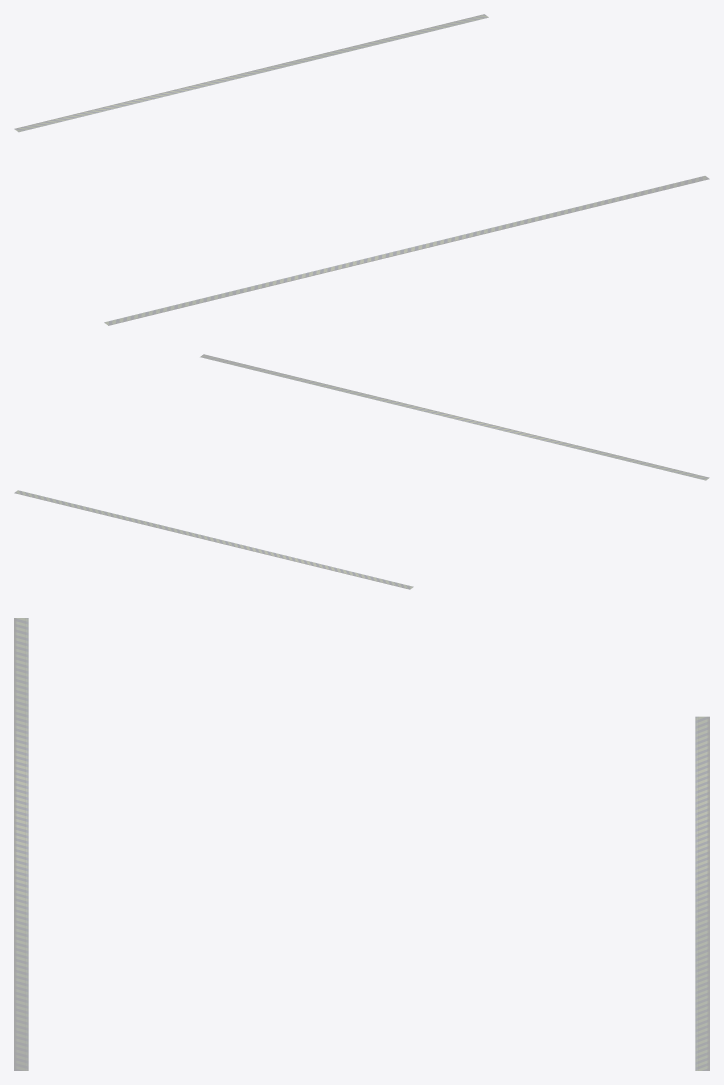
Rendered from PelagicIIExploration_Alpha_123.glb.
3 views of the same model, one above another, from view 1: azimuth 30°, elevation 25°; view 2: azimuth 150°, elevation 25°; view 3: azimuth 270°, elevation 25° (orthographic). The views are drawn at different scales.
Visible parts, largest first — view 1: PelagicIIExploration_Alpha_123; view 2: PelagicIIExploration_Alpha_123; view 3: PelagicIIExploration_Alpha_123.
Part boxes in pixels (x1,y1,x2,y2): PelagicIIExploration_Alpha_123: [15, 14, 708, 325]; PelagicIIExploration_Alpha_123: [15, 354, 708, 589]; PelagicIIExploration_Alpha_123: [14, 618, 709, 1070].
Size of the model in its own units: 529 by 7.11e-14 by 344.
Materials: 1 (1 with a texture image).
